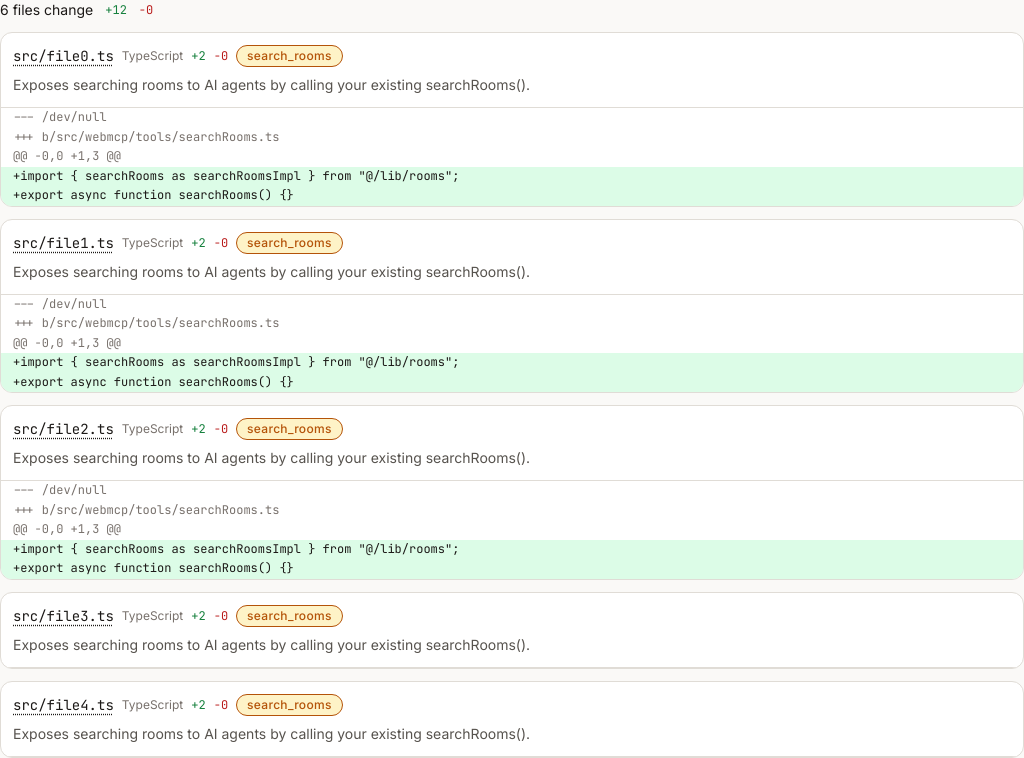
it: diff view › collapses files beyond the first few, and they open on demand
Click the button "src/file4.ts" at x=63, y=704, box [13,694,114,714]
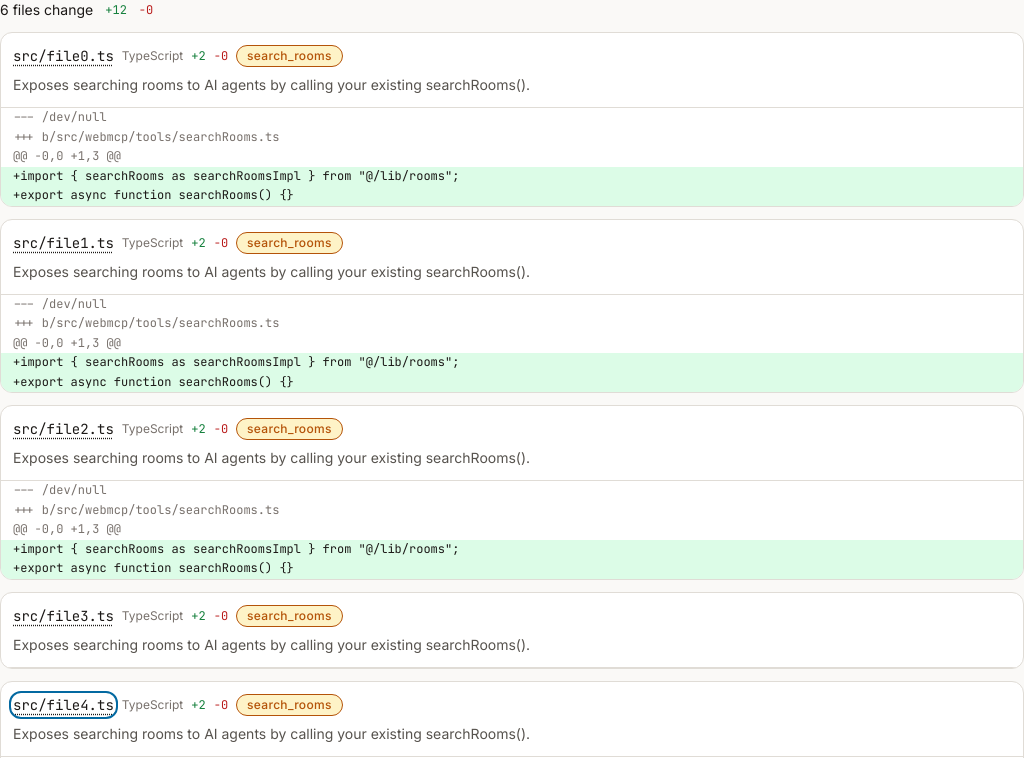
Expected: the button "src/file4.ts" is expanded, [13,694,114,714]
